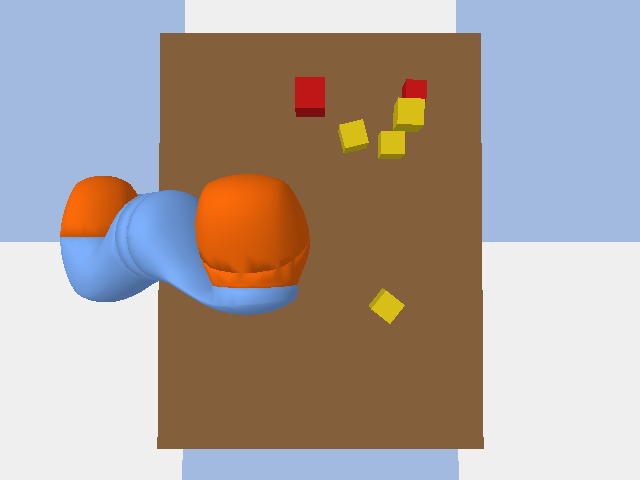red_obj: (295, 77, 324, 116), (402, 79, 426, 101)
yellow_obj: (369, 288, 404, 323), (393, 97, 424, 131), (338, 119, 368, 153), (378, 131, 404, 158)
